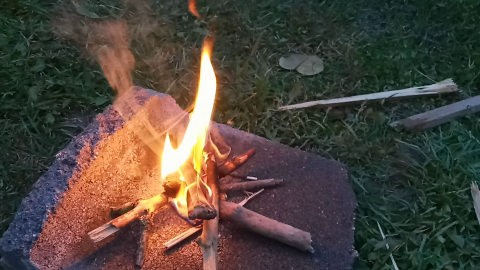fire: (149, 30, 230, 211)
